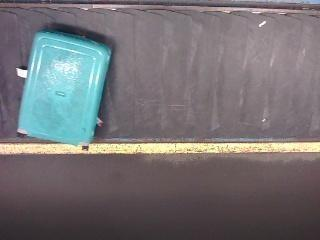Suitcase: (8, 27, 110, 153)
